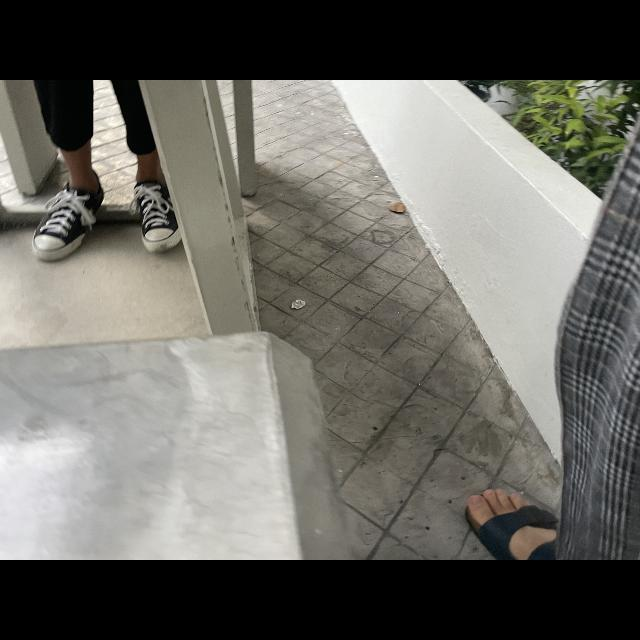scrap_plastic: (286, 292, 310, 314)
